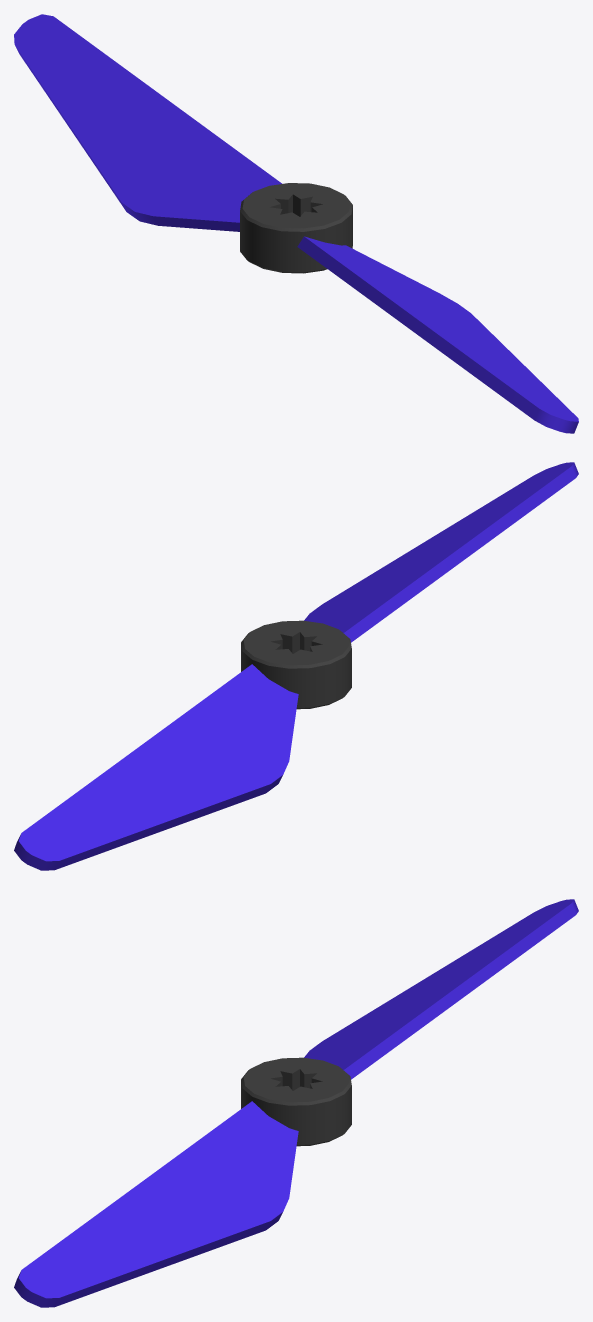
File: DroneRotor.fbx
The picture shows the model from 3 angles, top to bottom: view 1: azimuth 30°, elevation 25°; view 2: azimuth 150°, elevation 25°; view 3: azimuth 330°, elevation 25°; orthographic projection. The views are drawn at different scales.
Visible parts, largest first — view 1: Rotor; view 2: Rotor; view 3: Rotor.
Part boxes in pixels (<box>): Rotor: <box>14,14,578,433</box>; Rotor: <box>14,462,578,870</box>; Rotor: <box>14,899,578,1307</box>.
Size of the model in its own units: 14.94 by 6.05 by 94.76.
